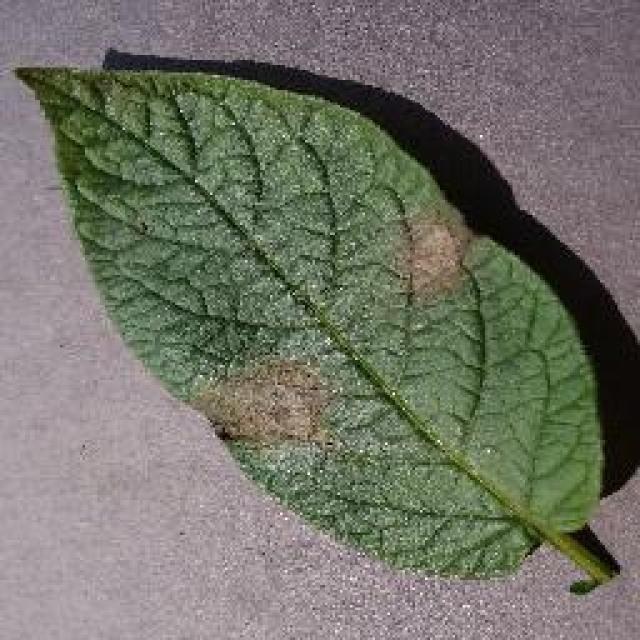late_blight: (10, 55, 618, 585)
